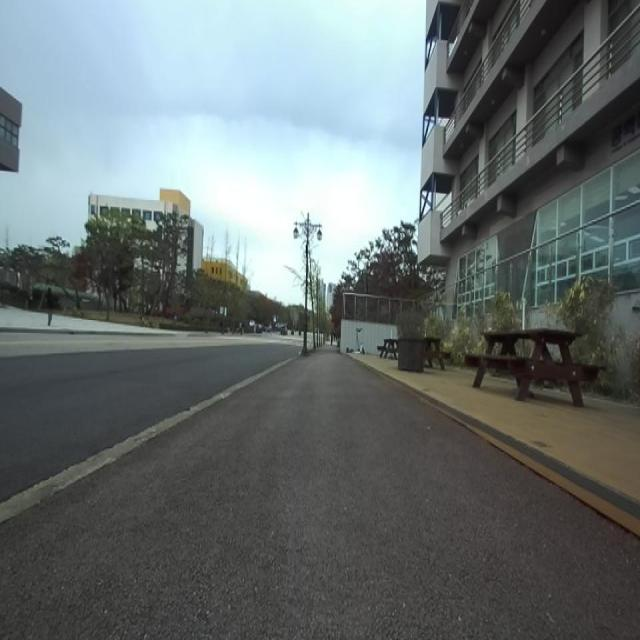sidewalk: (0, 343, 640, 639)
